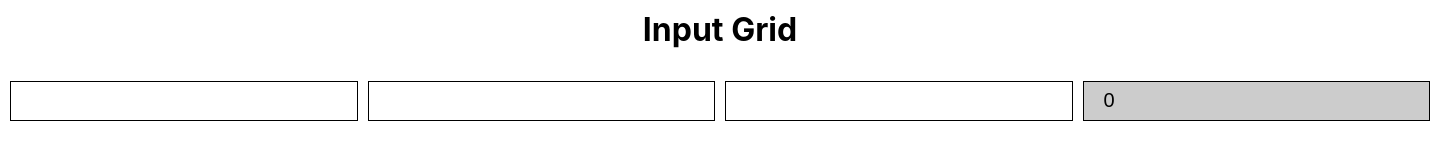
Test case: Sums big numbers and show correctly
Type "1234" into the field named "first-input" at (184, 101), box [10,81,358,121]
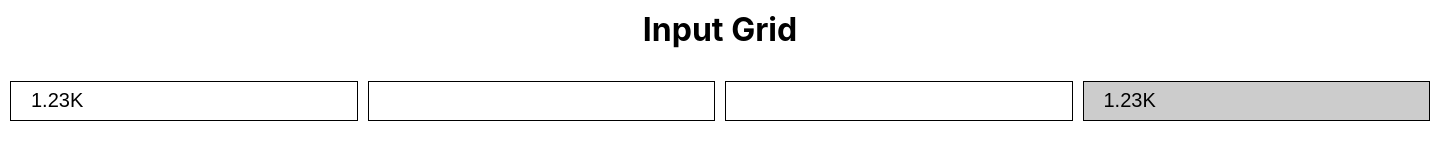
Type "1234" into the field named "second-input" at (541, 101), box [368,81,715,121]
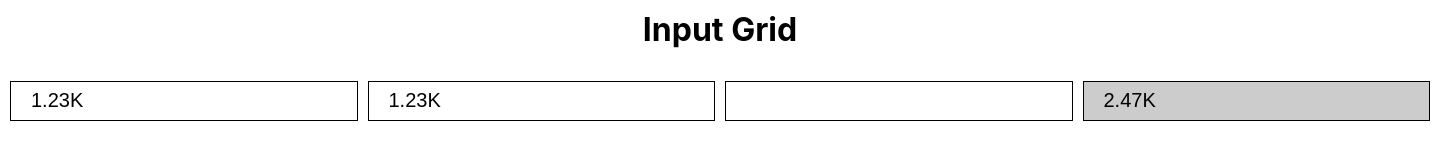
Type "1234" into the field named "third-input" at (899, 101), box [725,81,1072,121]
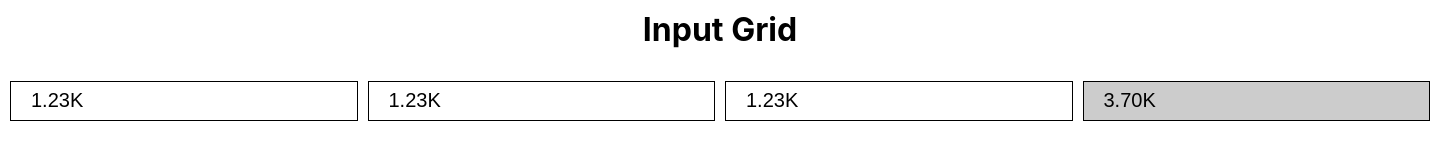
Expected: the field named "results-input" holds "3.70K", [1082,81,1430,121]
